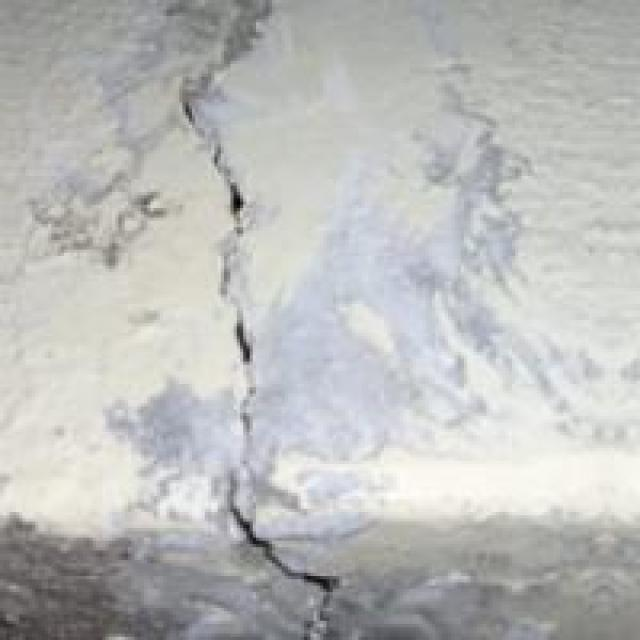crack: (134, 22, 473, 637)
